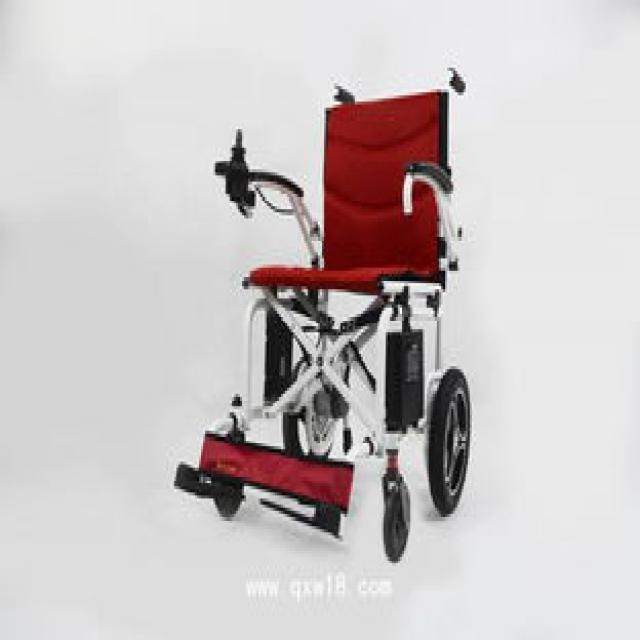wheelchair: (176, 56, 480, 570)
